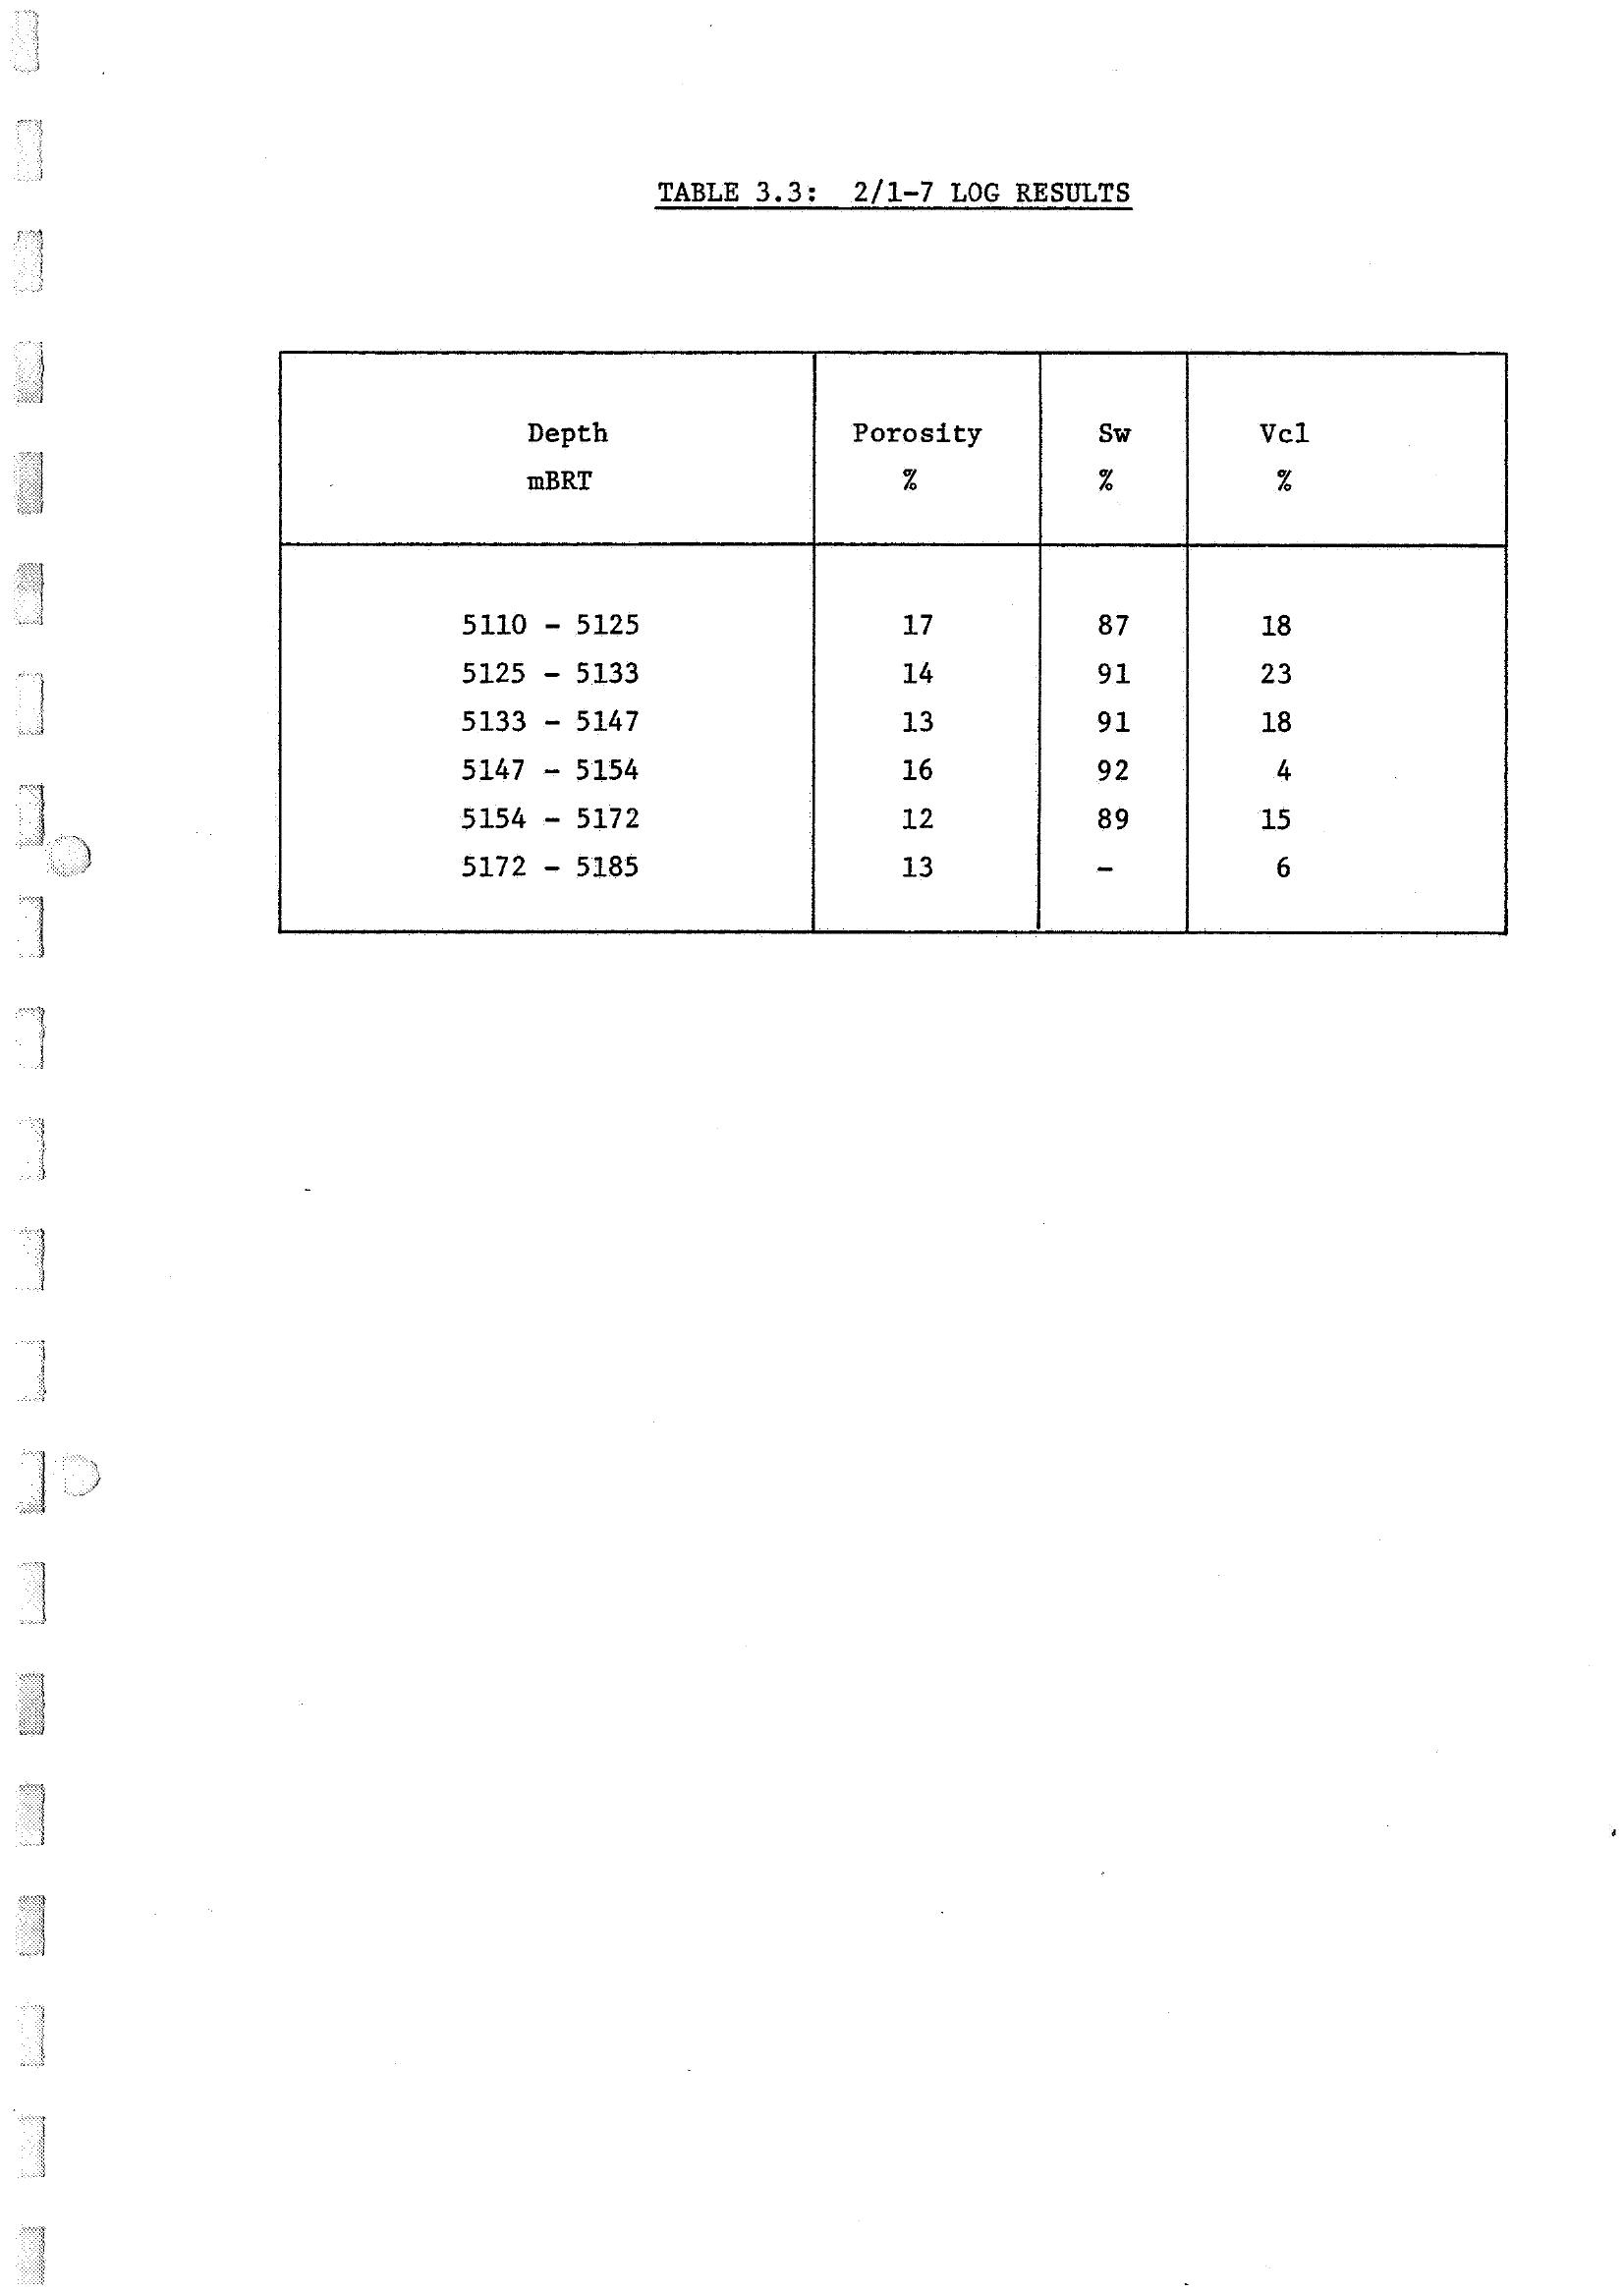table: (250, 163, 1566, 995)
